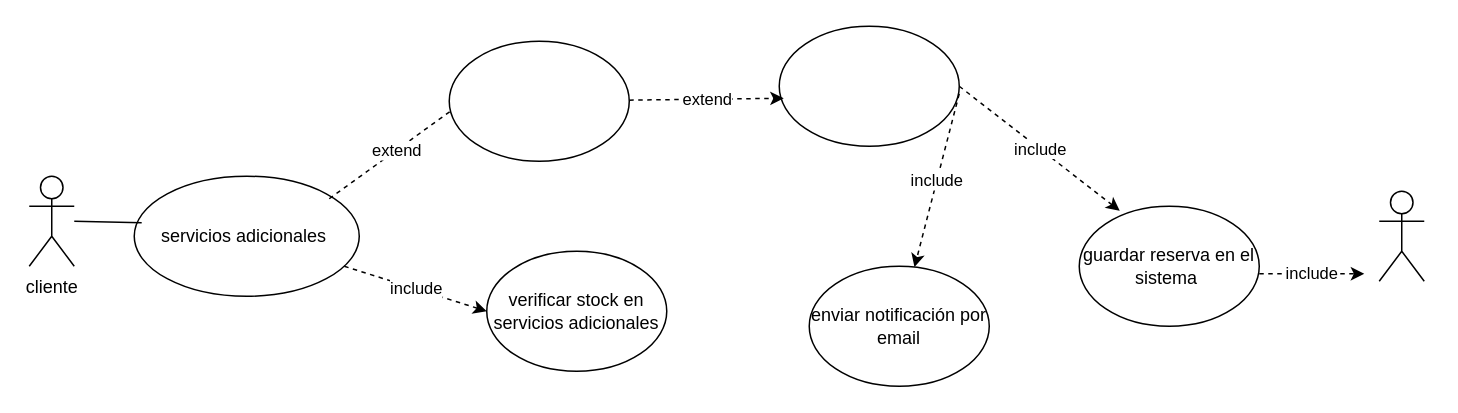
Some shapes in this 1458 by 413 pixel diagram are drawn without their labels. The shapes that lost their labels are listed below. From the top down, each one's centre as x and y in pixels, then its label:
pixel 538 100: formulario creación de servicios
pixel 868 85: mostrar resumen de servicios adicionales (costo, confirmar)
pixel 1401 235: sistema
